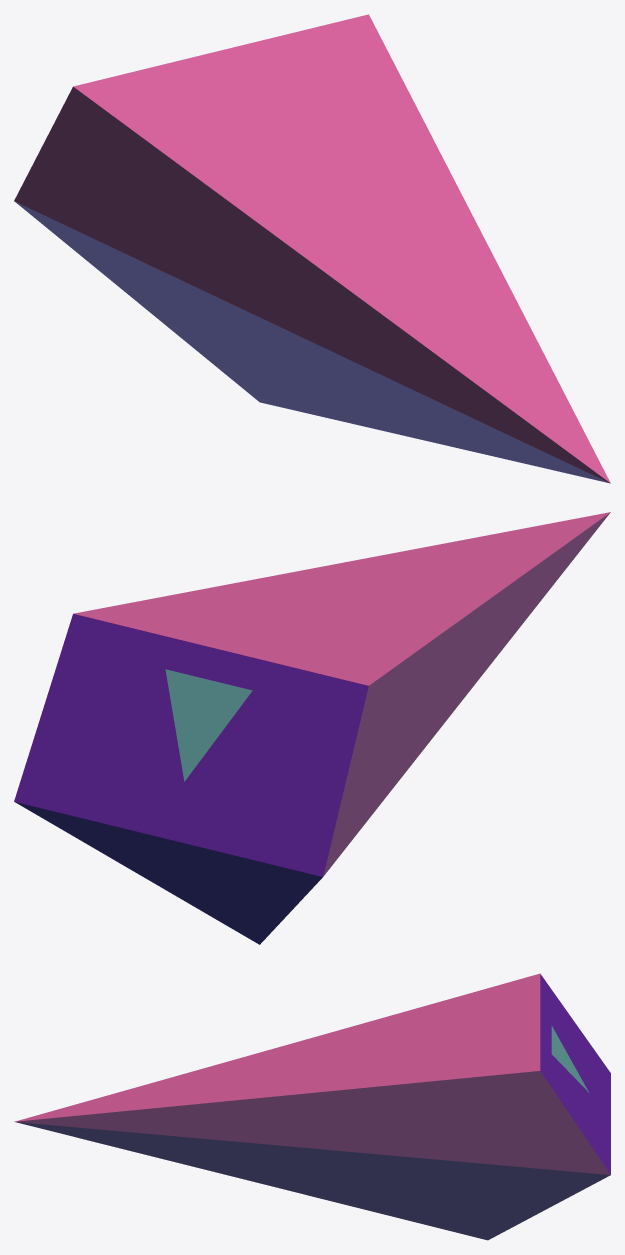
File: arc_boa.glb
3 renders of one model, top to bottom at view 1: azimuth 30°, elevation 25°; view 2: azimuth 150°, elevation 25°; view 3: azimuth 270°, elevation 25°, orthographic. The views are drawn at different scales.
Visible parts, largest first — view 1: griff_arcelite_boa; view 2: griff_arcelite_boa, griff_arcelite_boa.001; view 3: griff_arcelite_boa, griff_arcelite_boa.001.
Boxes of the visible parts, bbox=[...] form: griff_arcelite_boa: bbox=[14, 14, 610, 483]; griff_arcelite_boa: bbox=[14, 512, 610, 944]; griff_arcelite_boa.001: bbox=[165, 669, 252, 781]; griff_arcelite_boa: bbox=[14, 973, 610, 1240]; griff_arcelite_boa.001: bbox=[551, 1026, 588, 1092].
Size of the model in its own units: 0.597 by 0.597 by 1.48.
1 material, 1 textured.
